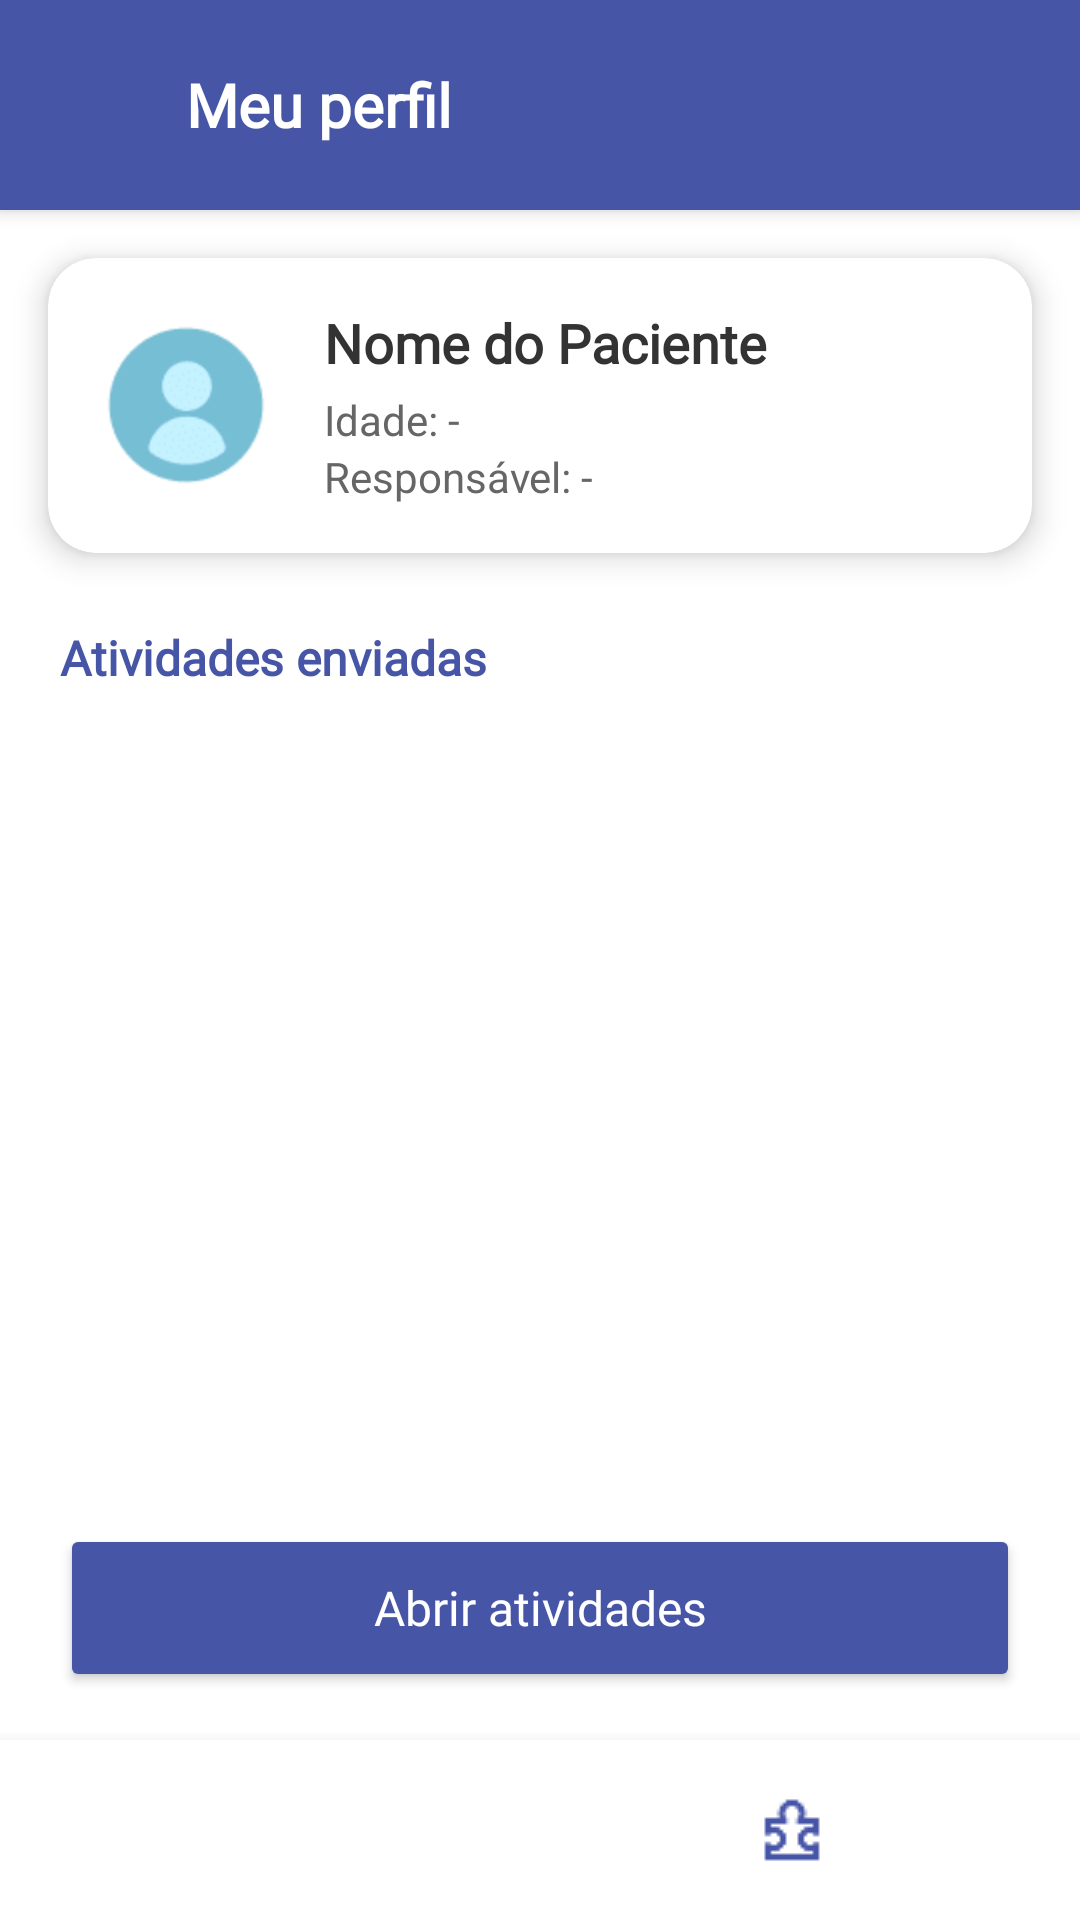

Screen size 1080px×1920px. Icon name, then its box in pixels as (x1, y1, x2, y2):
perfil: (108, 327, 264, 483)
